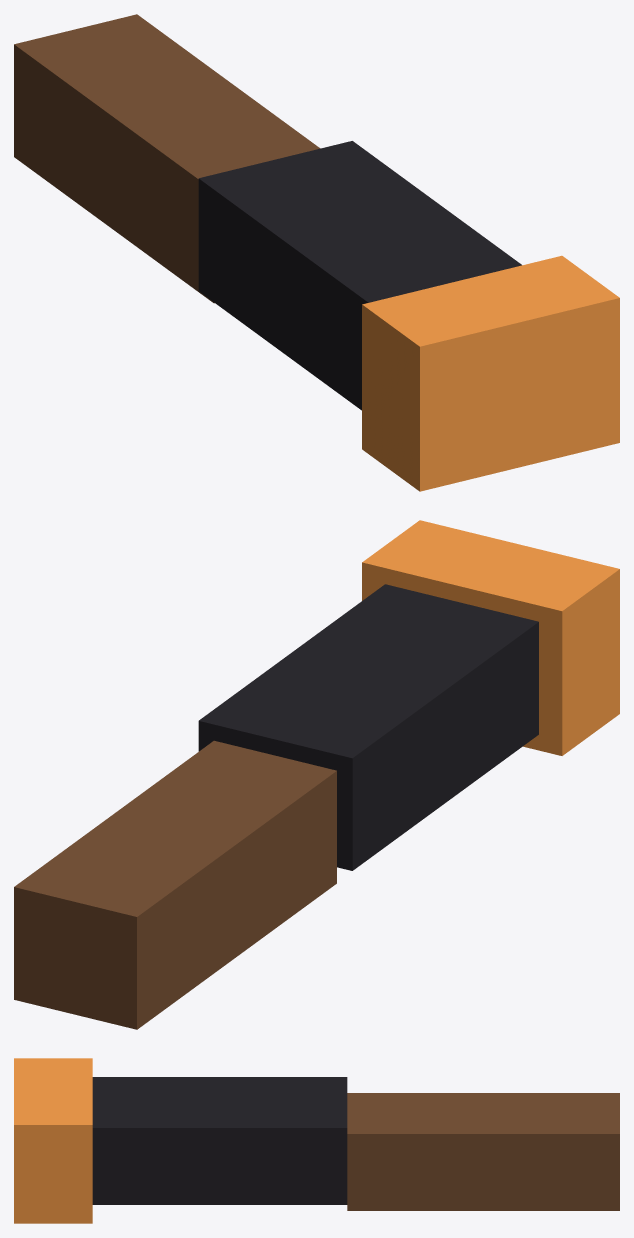
File: gun_scatter.glb
3 views of the same model, one above another, from view 1: azimuth 30°, elevation 25°; view 2: azimuth 150°, elevation 25°; view 3: azimuth 270°, elevation 25° (orthographic). The views are drawn at different scales.
Parts seen in each view (by area): view 1: gun_scatter; view 2: gun_scatter; view 3: gun_scatter.
Part boxes in pixels (bbox=[...]): gun_scatter: bbox=[14, 14, 619, 491]; gun_scatter: bbox=[14, 520, 619, 1029]; gun_scatter: bbox=[14, 1058, 619, 1223].
Bounding box in the file's own units: 0.26 × 0.18 × 1.
Materials: 1 (1 with a texture image).
